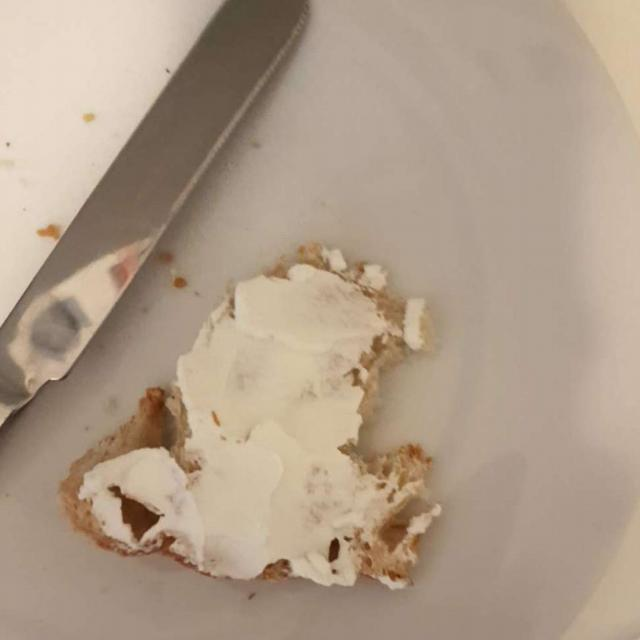bread-white: (69, 242, 438, 596)
goat-cheese-soft: (112, 273, 397, 604)
